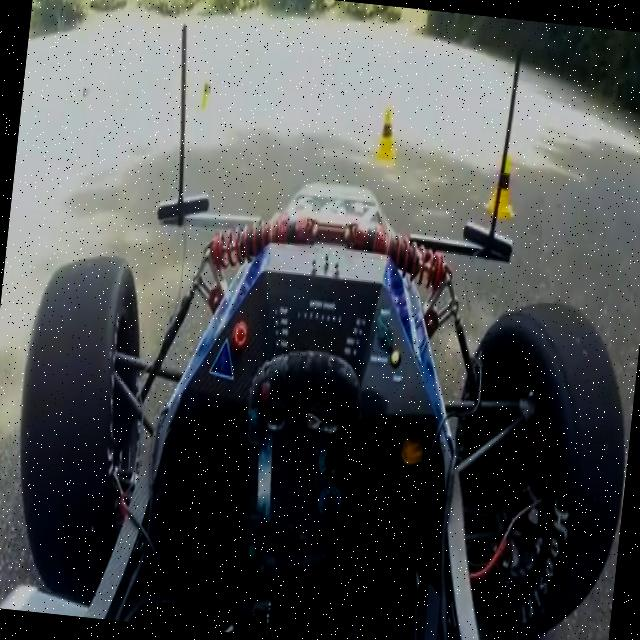yellow_cone: (484, 156, 520, 223), (374, 105, 402, 165)
